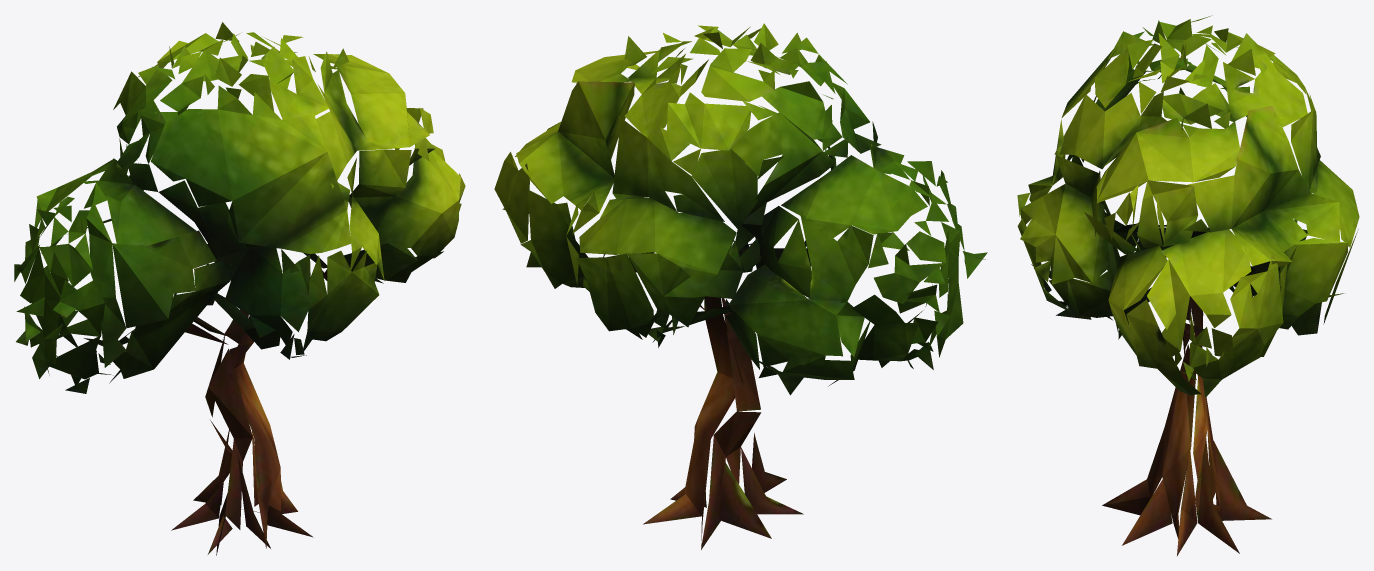
The model's file is kit_albero.glb.
3 renders of one model, left to right at view 1: azimuth 30°, elevation 25°; view 2: azimuth 150°, elevation 25°; view 3: azimuth 270°, elevation 25°, orthographic.
Parts seen in each view (by area): view 1: _leggero; view 2: _leggero; view 3: _leggero.
Part boxes in pixels (left/top/right/bottom): _leggero: left=14, top=22, right=465, bottom=555; _leggero: left=494, top=23, right=987, bottom=549; _leggero: left=1017, top=15, right=1359, bottom=555.
Bounding box in the file's own units: 0.9987 × 1.03 × 0.6433.
Materials: 1 (1 with a texture image).
